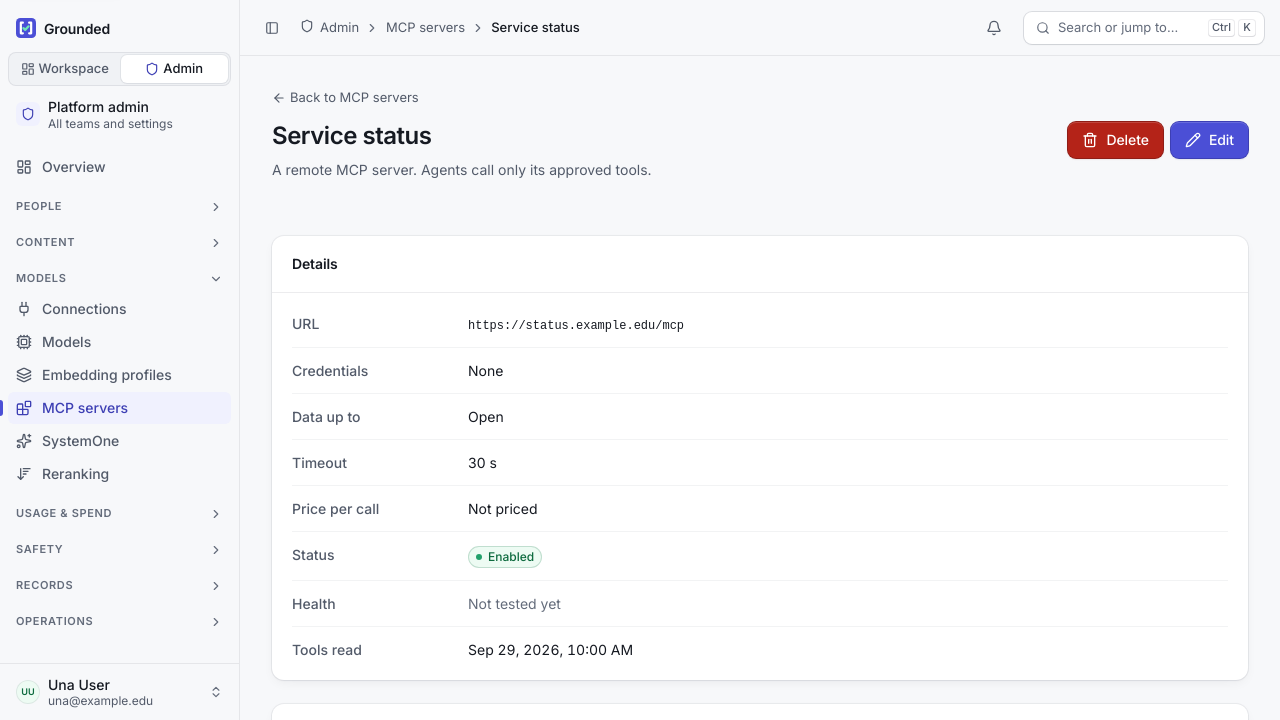
Test: Admin → MCP servers: guarded changes › names the agents that block a delete instead of offering Delete
The width and height of the screenshot is (1280, 720).
Click the button "Delete" at {"x": 1116, "y": 140}, box [1068,122,1163,158]
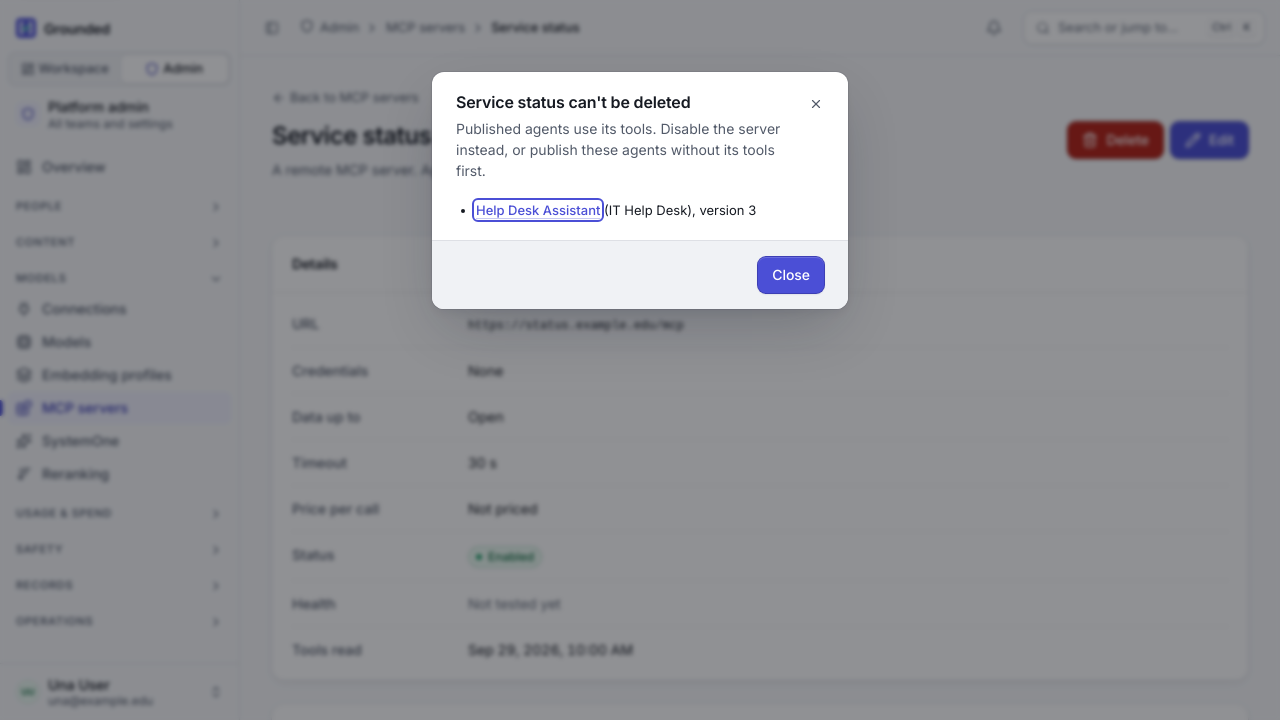
Expected: the dialog "Service status can't be deleted" shows "Disable the server instead", [456,120,780,179]
Expected: the link "Help Desk Assistant" is shown, [476,202,600,218]
